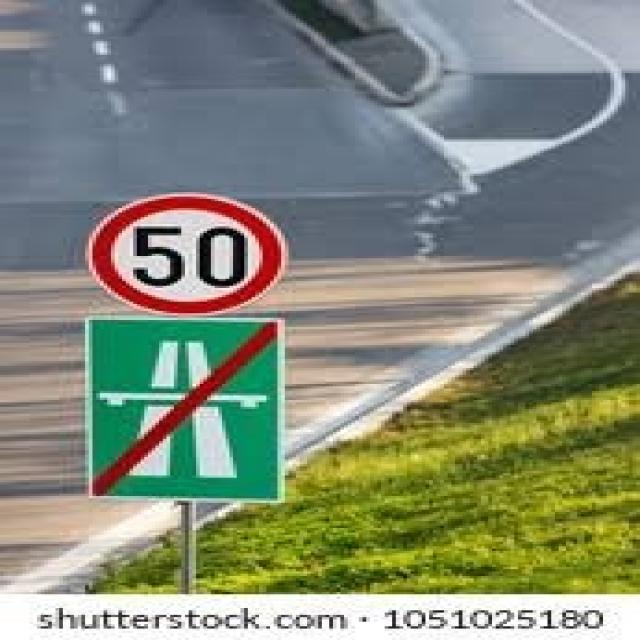speed_limit_50: (75, 187, 319, 319)
